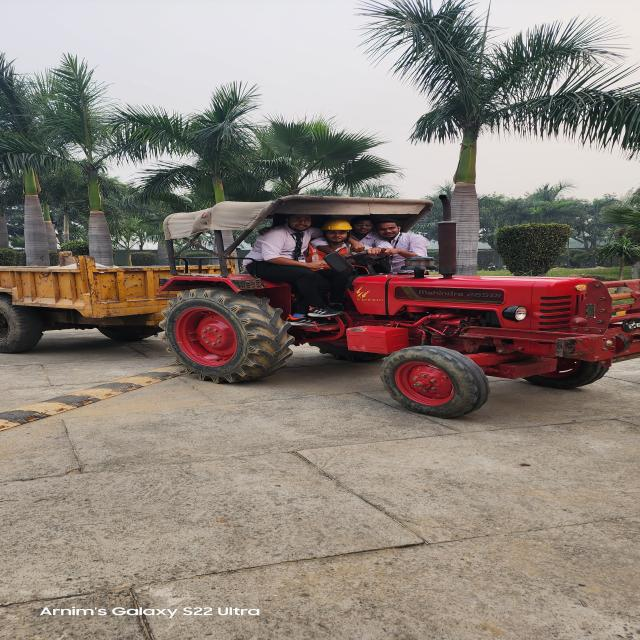safe: (314, 217, 361, 277)
unsafe: (261, 213, 319, 323)
